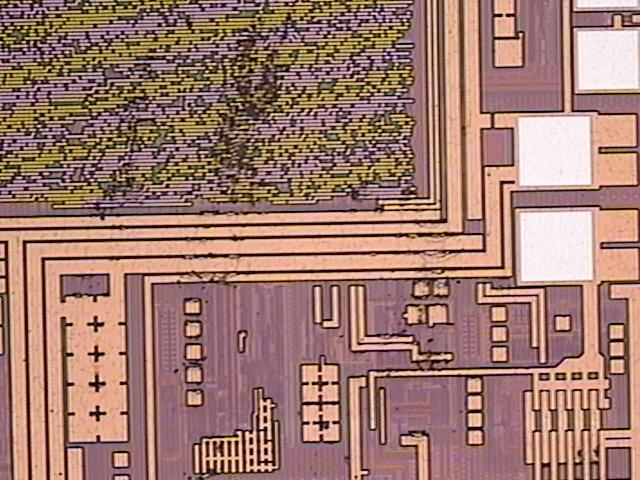SCRATCH: (96, 24, 464, 375)
